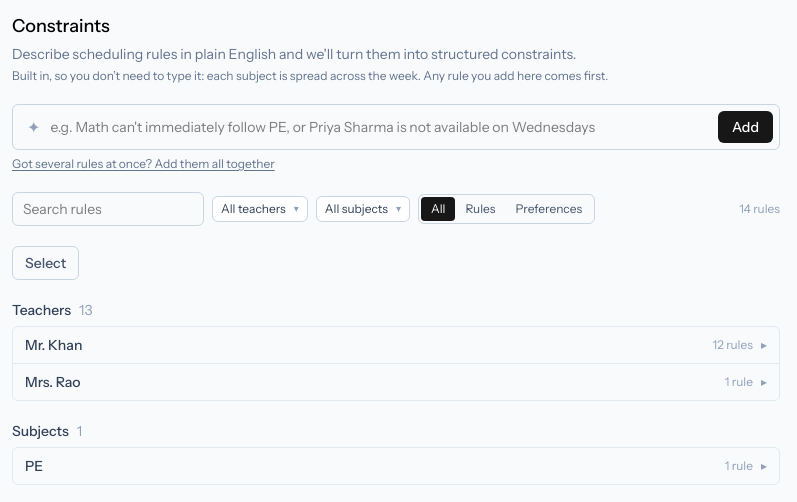
Test case: searching and filtering › says when nothing matches
The image size is (797, 502).
Type "zzz" into the search field labelled "Search rules" at [108, 209], box 12,192 -> 204,226
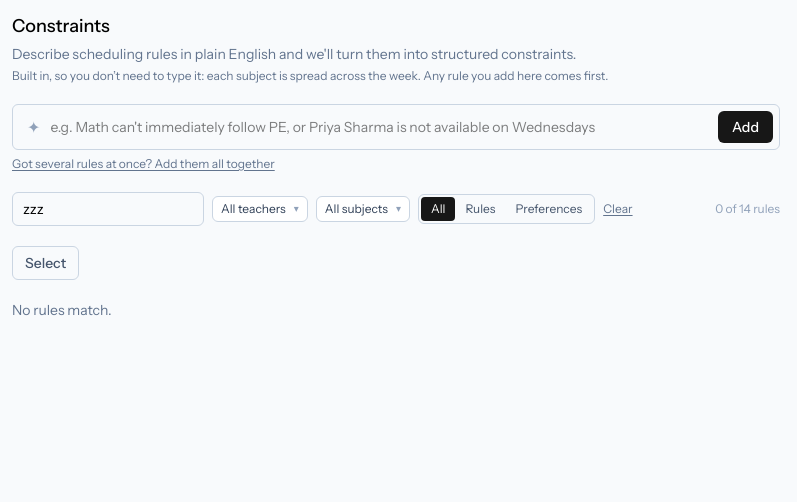
expect the text "No rules match." is shown: met, box 12,301 -> 112,319
